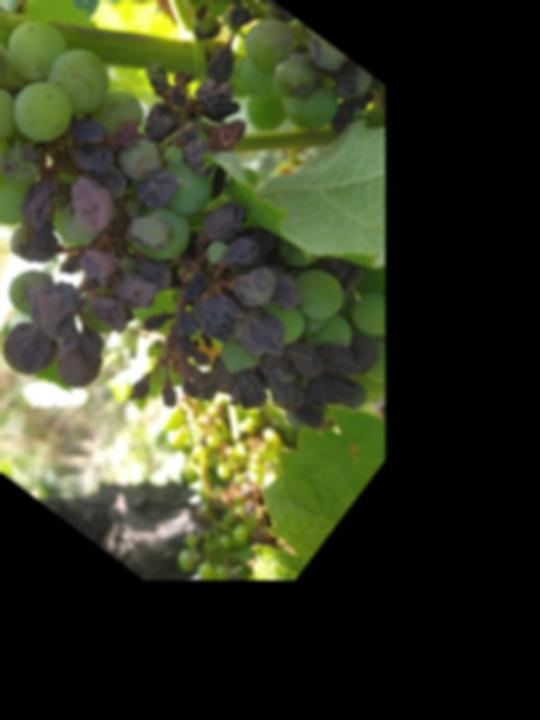grape: (0, 0, 487, 568)
